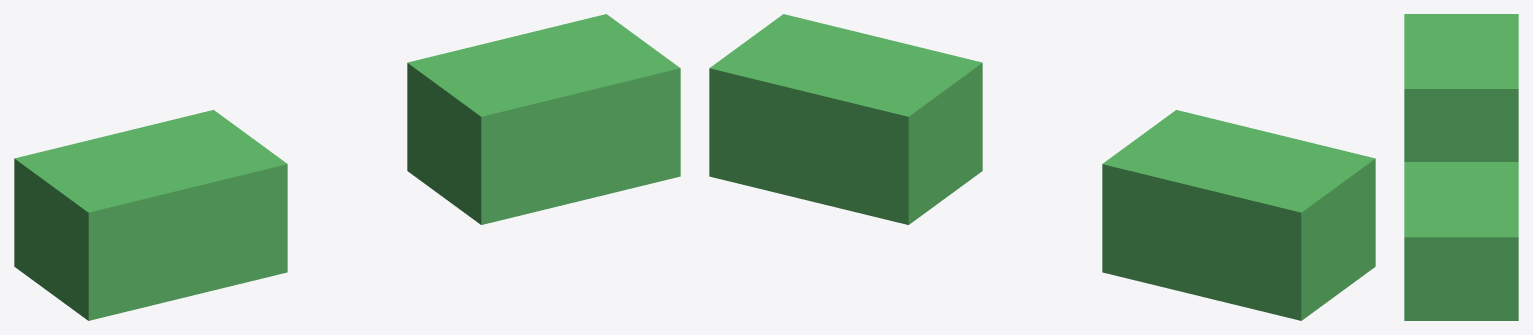
Rendered from anti_cavalry_stakes_gap_collision.glb.
The picture shows the model from 3 angles, left to right: view 1: azimuth 30°, elevation 25°; view 2: azimuth 150°, elevation 25°; view 3: azimuth 270°, elevation 25°; orthographic projection. The views are drawn at different scales.
Visible parts, largest first — view 1: anti_cavalry_stakes_gap-col-left, anti_cavalry_stakes_gap-col-right; view 2: anti_cavalry_stakes_gap-col-left, anti_cavalry_stakes_gap-col-right; view 3: anti_cavalry_stakes_gap-col-right, anti_cavalry_stakes_gap-col-left.
Part boxes in pixels (x1,y1,x2,y2): anti_cavalry_stakes_gap-col-left: (14,110,287,320); anti_cavalry_stakes_gap-col-right: (407,14,680,224); anti_cavalry_stakes_gap-col-left: (1102,110,1375,320); anti_cavalry_stakes_gap-col-right: (709,14,982,224); anti_cavalry_stakes_gap-col-right: (1404,162,1518,320); anti_cavalry_stakes_gap-col-left: (1404,14,1518,161).
Bounding box in the file's own units: 6.18 × 1.08 × 1.34.
